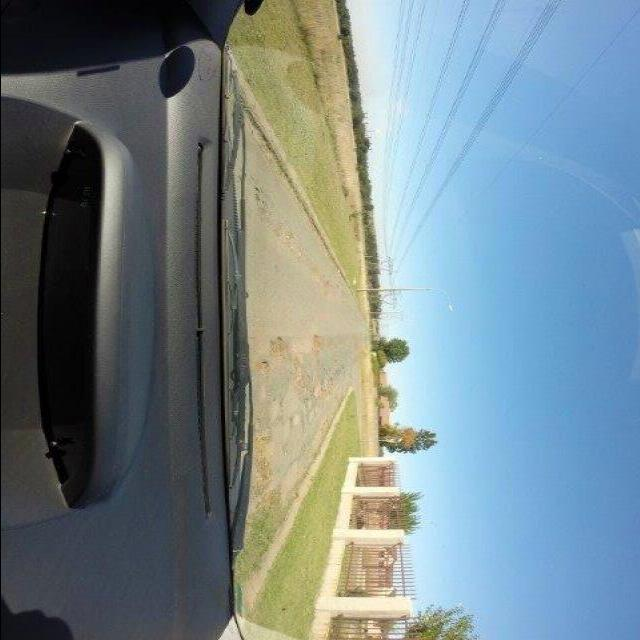lubang: (251, 482, 291, 524), (250, 428, 272, 485), (266, 392, 290, 430), (250, 182, 270, 224), (286, 357, 306, 393), (266, 333, 294, 357), (270, 227, 298, 250), (317, 276, 340, 302), (313, 376, 335, 400), (288, 412, 308, 436), (309, 332, 323, 353), (253, 359, 271, 374)
